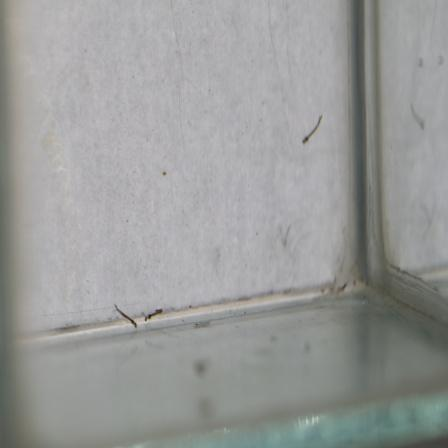Jentik-Nyamuk: (295, 112, 327, 147), (110, 300, 139, 333), (140, 305, 167, 323)
